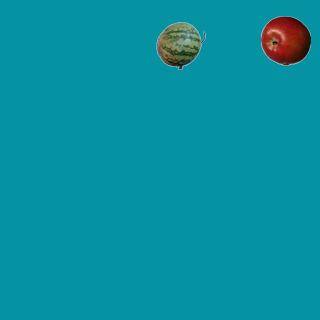Apple Braeburn: (260, 15, 310, 65)
Watermelon: (155, 20, 205, 70)
